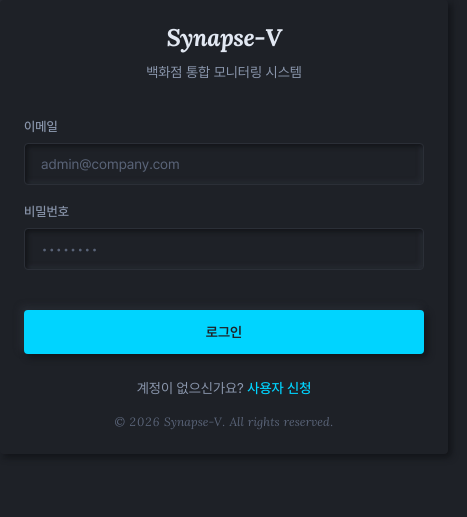
it: LoginPage › 빈 폼 제출 — 유효성 검사
The image size is (467, 517).
Click the button "로그인": (224, 332) [24,310,424,354]
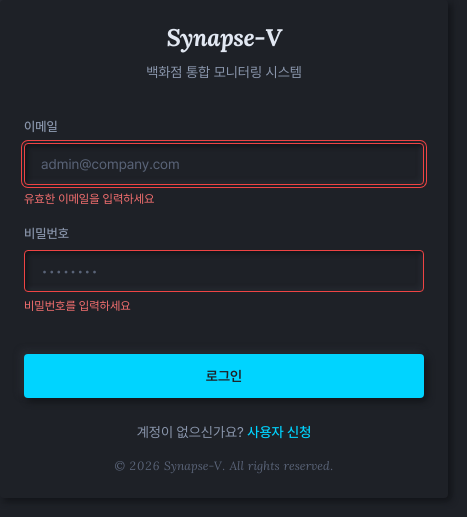
Check: the text "유효한 이메일을 입력하세요" is shown, box [24,192,154,206]
